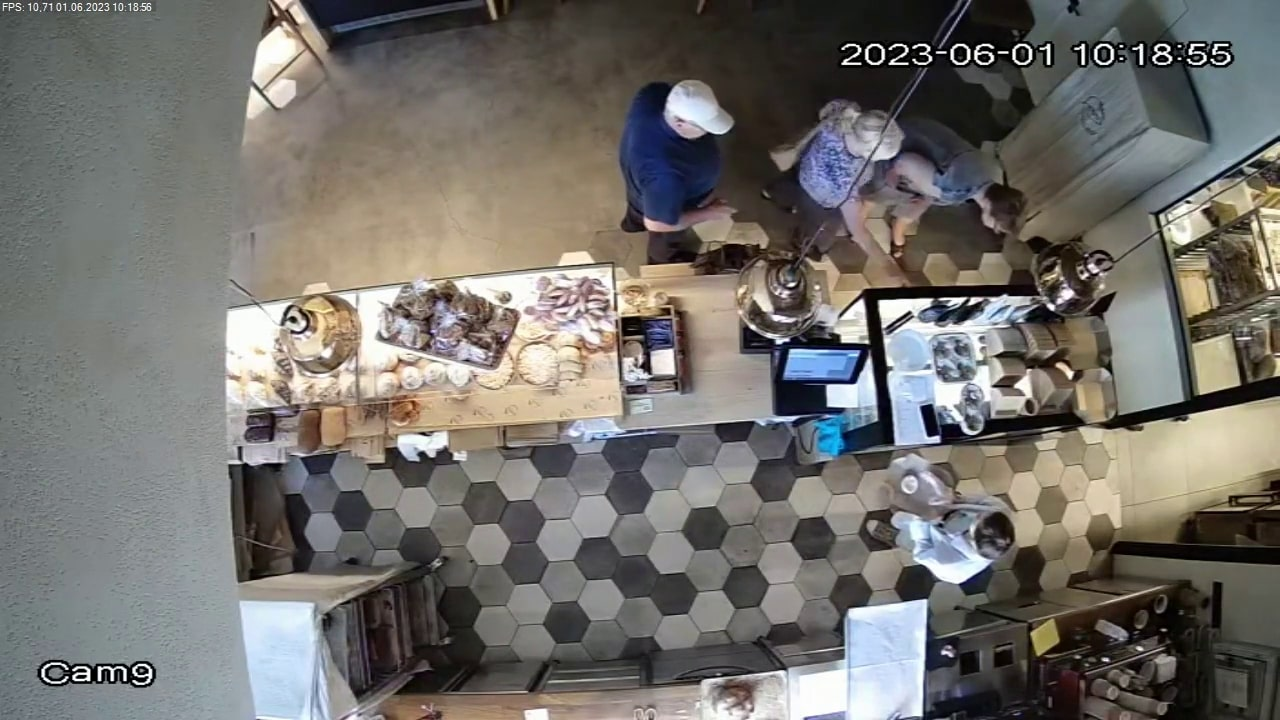coffee: (900, 472, 922, 495)
person: (624, 81, 752, 249), (915, 103, 1028, 248), (878, 460, 1024, 571), (797, 93, 893, 232)
